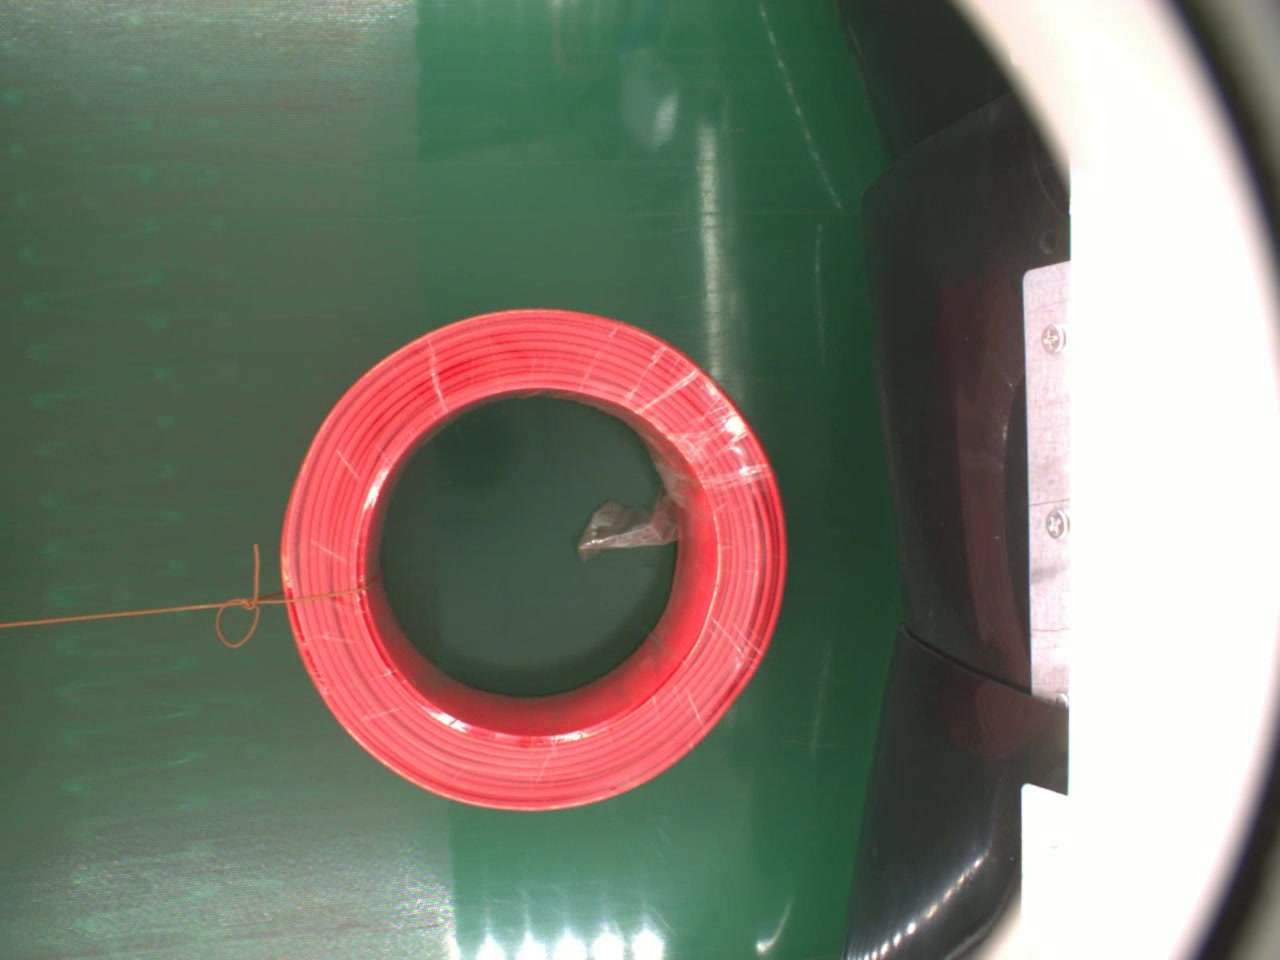red: (279, 304, 792, 818)
